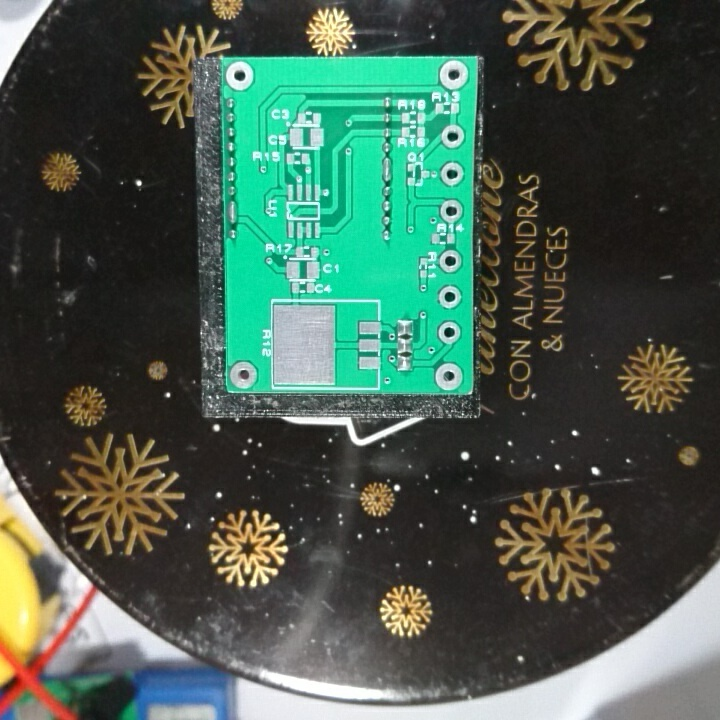F: (437, 58, 471, 92), (227, 358, 262, 391), (431, 360, 466, 392), (224, 59, 257, 92), (436, 283, 464, 312), (439, 196, 464, 226), (436, 320, 464, 346), (438, 248, 464, 275), (439, 124, 467, 149), (439, 160, 464, 188)
P: (380, 155, 393, 184), (227, 200, 240, 226)
